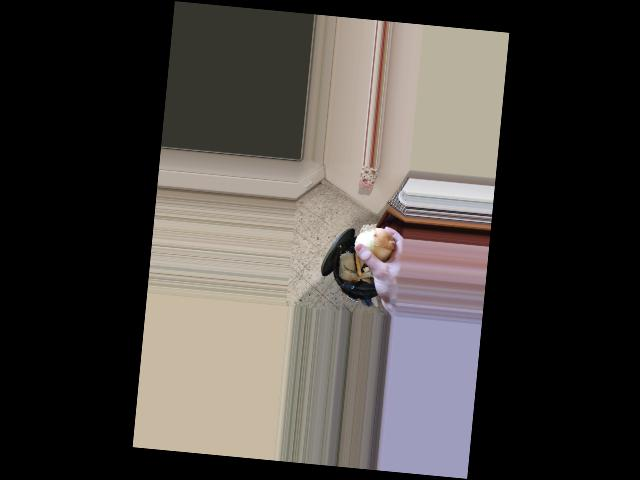onion: (355, 224, 393, 266)
